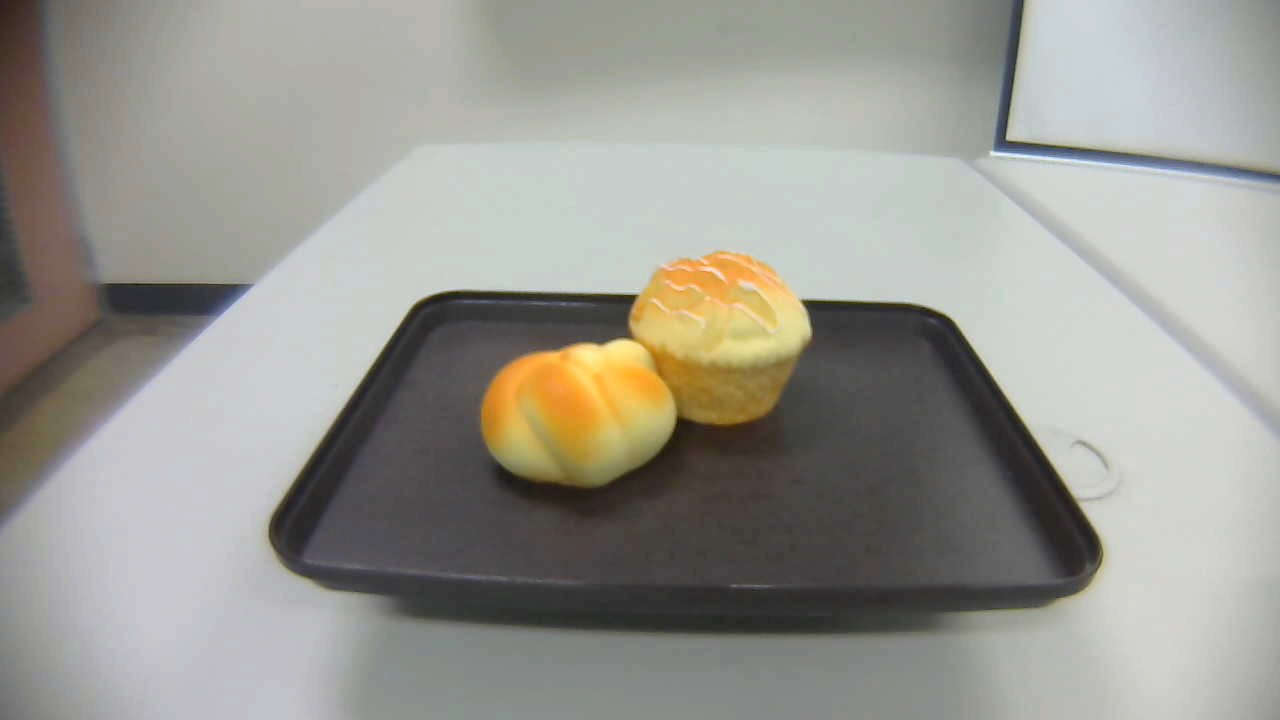cupcake: (629, 251, 813, 427)
twist bread: (480, 337, 677, 492)
